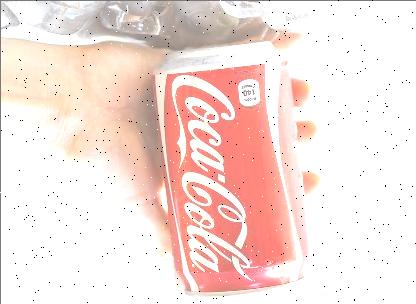Can: (148, 41, 308, 297)
